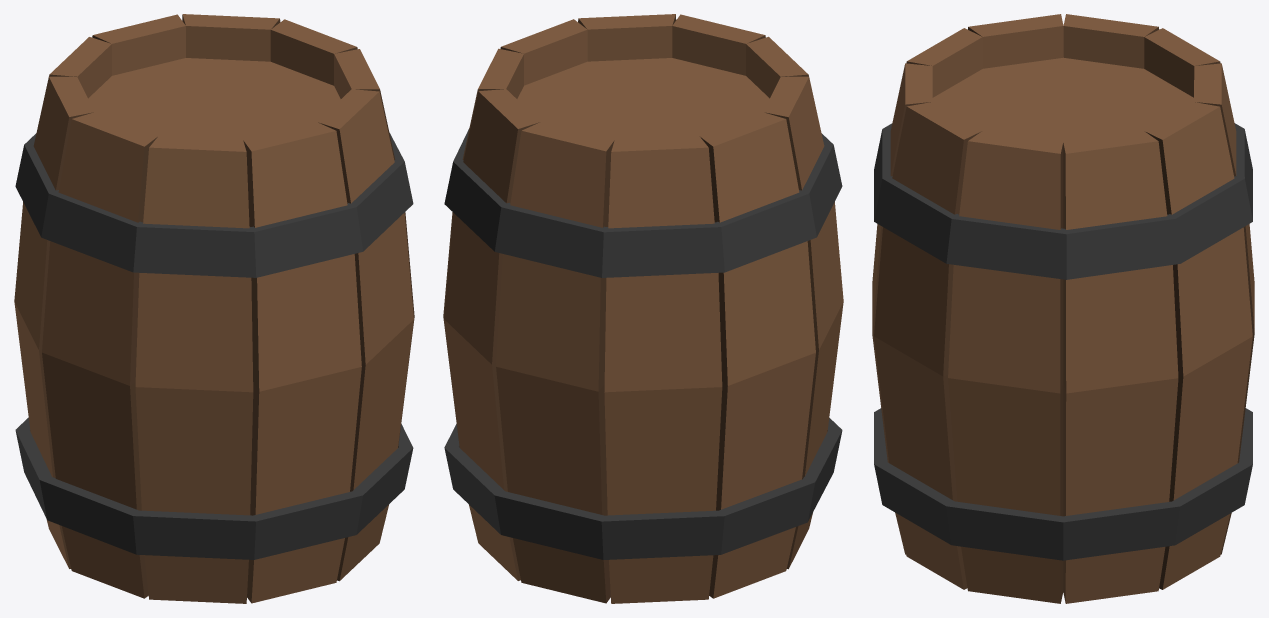
Rendered from Barrel_Wooden_01.fbx.
3 renders of one model, left to right at view 1: azimuth 30°, elevation 25°; view 2: azimuth 150°, elevation 25°; view 3: azimuth 270°, elevation 25°, orthographic.
Visible parts, largest first — view 1: Barrel_Wooden_01; view 2: Barrel_Wooden_01; view 3: Barrel_Wooden_01.
Part boxes in pixels (left/top/right/bottom): Barrel_Wooden_01: left=14, top=14, right=414, bottom=603; Barrel_Wooden_01: left=443, top=14, right=843, bottom=603; Barrel_Wooden_01: left=872, top=14, right=1254, bottom=603.
Size of the model in its own units: 0.6332 by 0.7858 by 0.6053.
